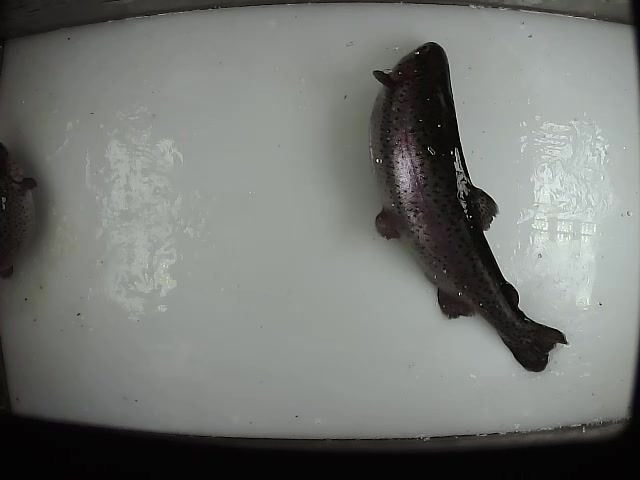fish: (365, 37, 570, 373), (1, 133, 37, 277)
